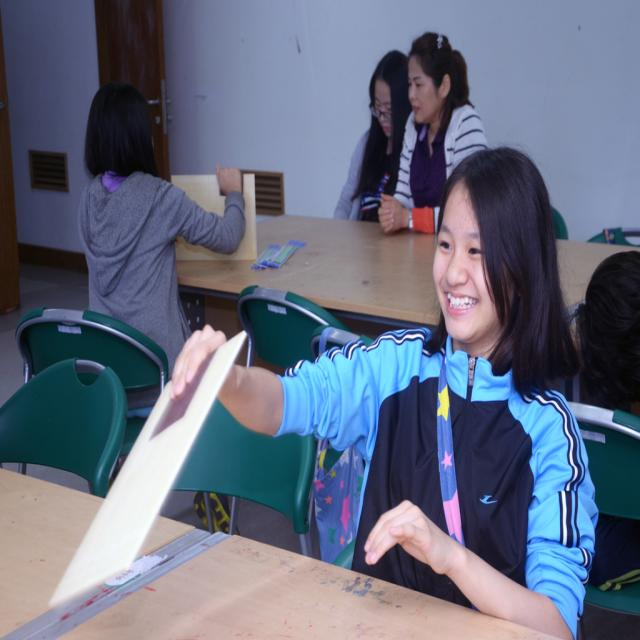Chair: (14, 202, 640, 640), (0, 357, 126, 502)
